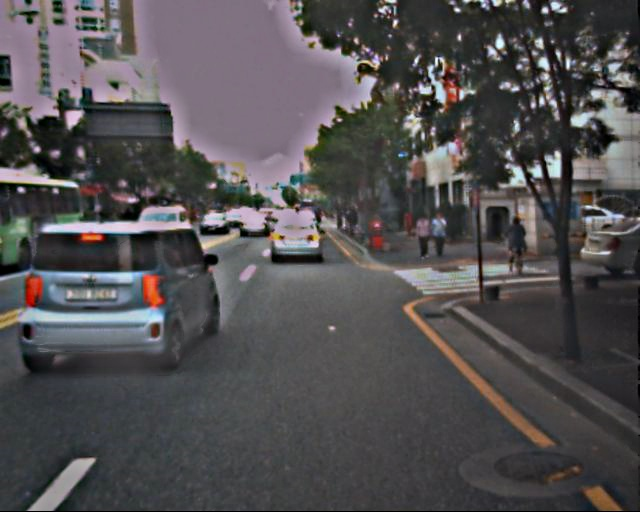person: (506, 215, 528, 268), (430, 210, 451, 260), (412, 213, 432, 261)
